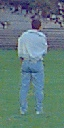person: (12, 15, 50, 117)
